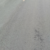others: (1, 1, 48, 49)
